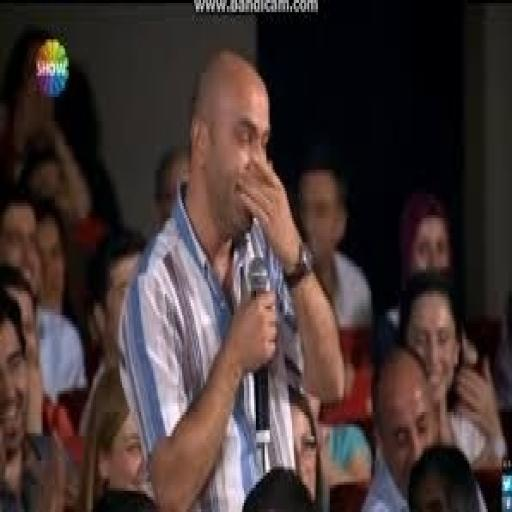laughing: (115, 42, 349, 503)
